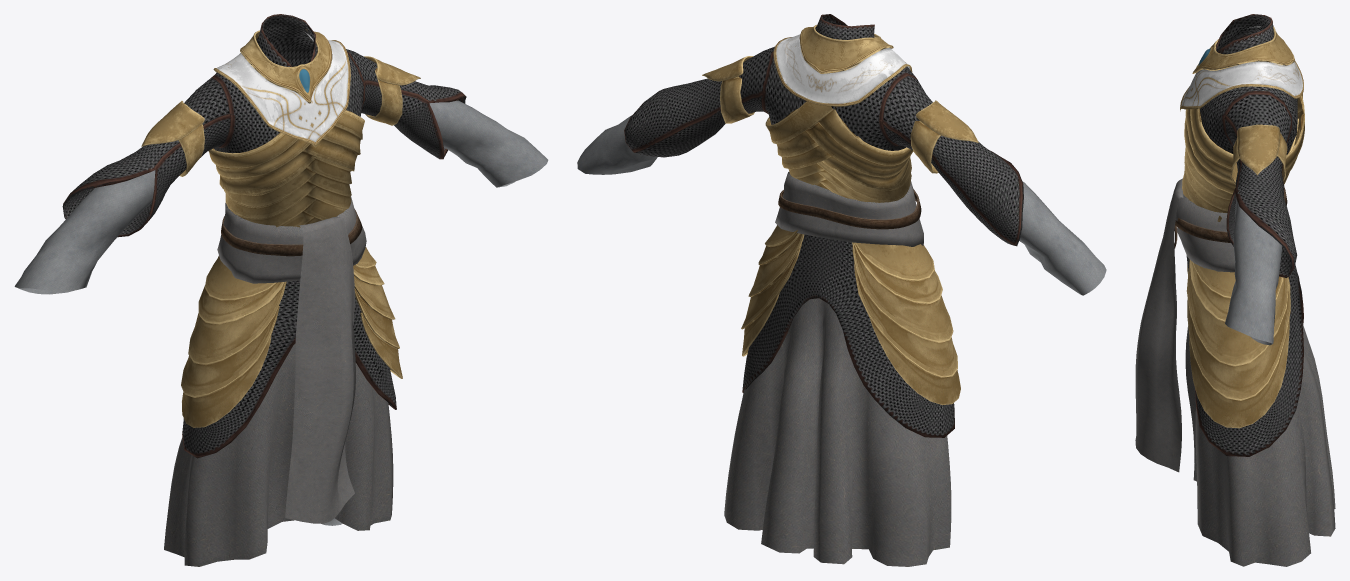
Rendered from rivendell_torso_lord1.fbx.
The picture shows the model from 3 angles, left to right: view 1: azimuth 30°, elevation 25°; view 2: azimuth 150°, elevation 25°; view 3: azimuth 270°, elevation 25°; orthographic projection. The views are drawn at different scales.
Visible parts, largest first — view 1: rivendell_torso_lord1.1, rivendell_torso_lord1.5, rivendell_torso_lord1.2, rivendell_torso_lord1.4, rivendell_torso_lord1.3, rivendell_torso_lord1.6, rivendell_torso_lord1.0; view 2: rivendell_torso_lord1.1, rivendell_torso_lord1.2, rivendell_torso_lord1.4, rivendell_torso_lord1.3, rivendell_torso_lord1.6, rivendell_torso_lord1.5, rivendell_torso_lord1.0; view 3: rivendell_torso_lord1.1, rivendell_torso_lord1.2, rivendell_torso_lord1.5, rivendell_torso_lord1.4, rivendell_torso_lord1.6, rivendell_torso_lord1.3, rivendell_torso_lord1.0.
Part boxes in pixels (x1,y1,x2,y2): rivendell_torso_lord1.1: (14,100,548,566); rivendell_torso_lord1.5: (217,196,366,523); rivendell_torso_lord1.2: (62,14,466,458); rivendell_torso_lord1.4: (181,247,402,427); rivendell_torso_lord1.3: (208,98,364,227); rivendell_torso_lord1.6: (213,29,350,147); rivendell_torso_lord1.0: (141,56,420,176); rivendell_torso_lord1.1: (577,115,1106,566); rivendell_torso_lord1.2: (624,14,1023,437); rivendell_torso_lord1.4: (741,225,960,404); rivendell_torso_lord1.3: (765,101,913,202); rivendell_torso_lord1.6: (773,25,912,106); rivendell_torso_lord1.5: (775,172,923,246); rivendell_torso_lord1.0: (702,56,978,173); rivendell_torso_lord1.1: (1185,198,1335,566); rivendell_torso_lord1.2: (1186,14,1303,456); rivendell_torso_lord1.5: (1135,178,1287,472); rivendell_torso_lord1.4: (1186,259,1290,428); rivendell_torso_lord1.6: (1180,26,1303,111); rivendell_torso_lord1.3: (1182,93,1304,221); rivendell_torso_lord1.0: (1230,124,1287,184).
Size of the model in its own units: 1.52 by 0.5182 by 1.44.
Materials: 7 (7 with a texture image).
